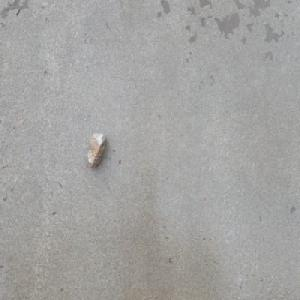Rock: (86, 132, 106, 172)
